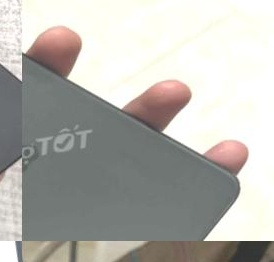scratch: (91, 128, 186, 202), (22, 0, 62, 101)
